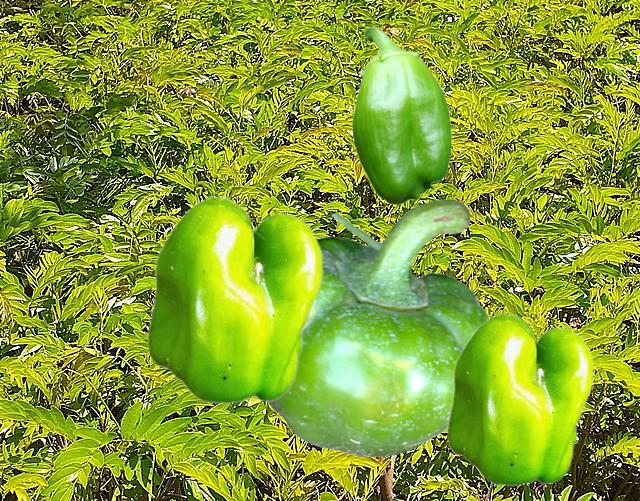bell_pepper: (266, 198, 490, 456), (146, 195, 322, 403), (446, 312, 593, 485), (351, 26, 451, 204)
